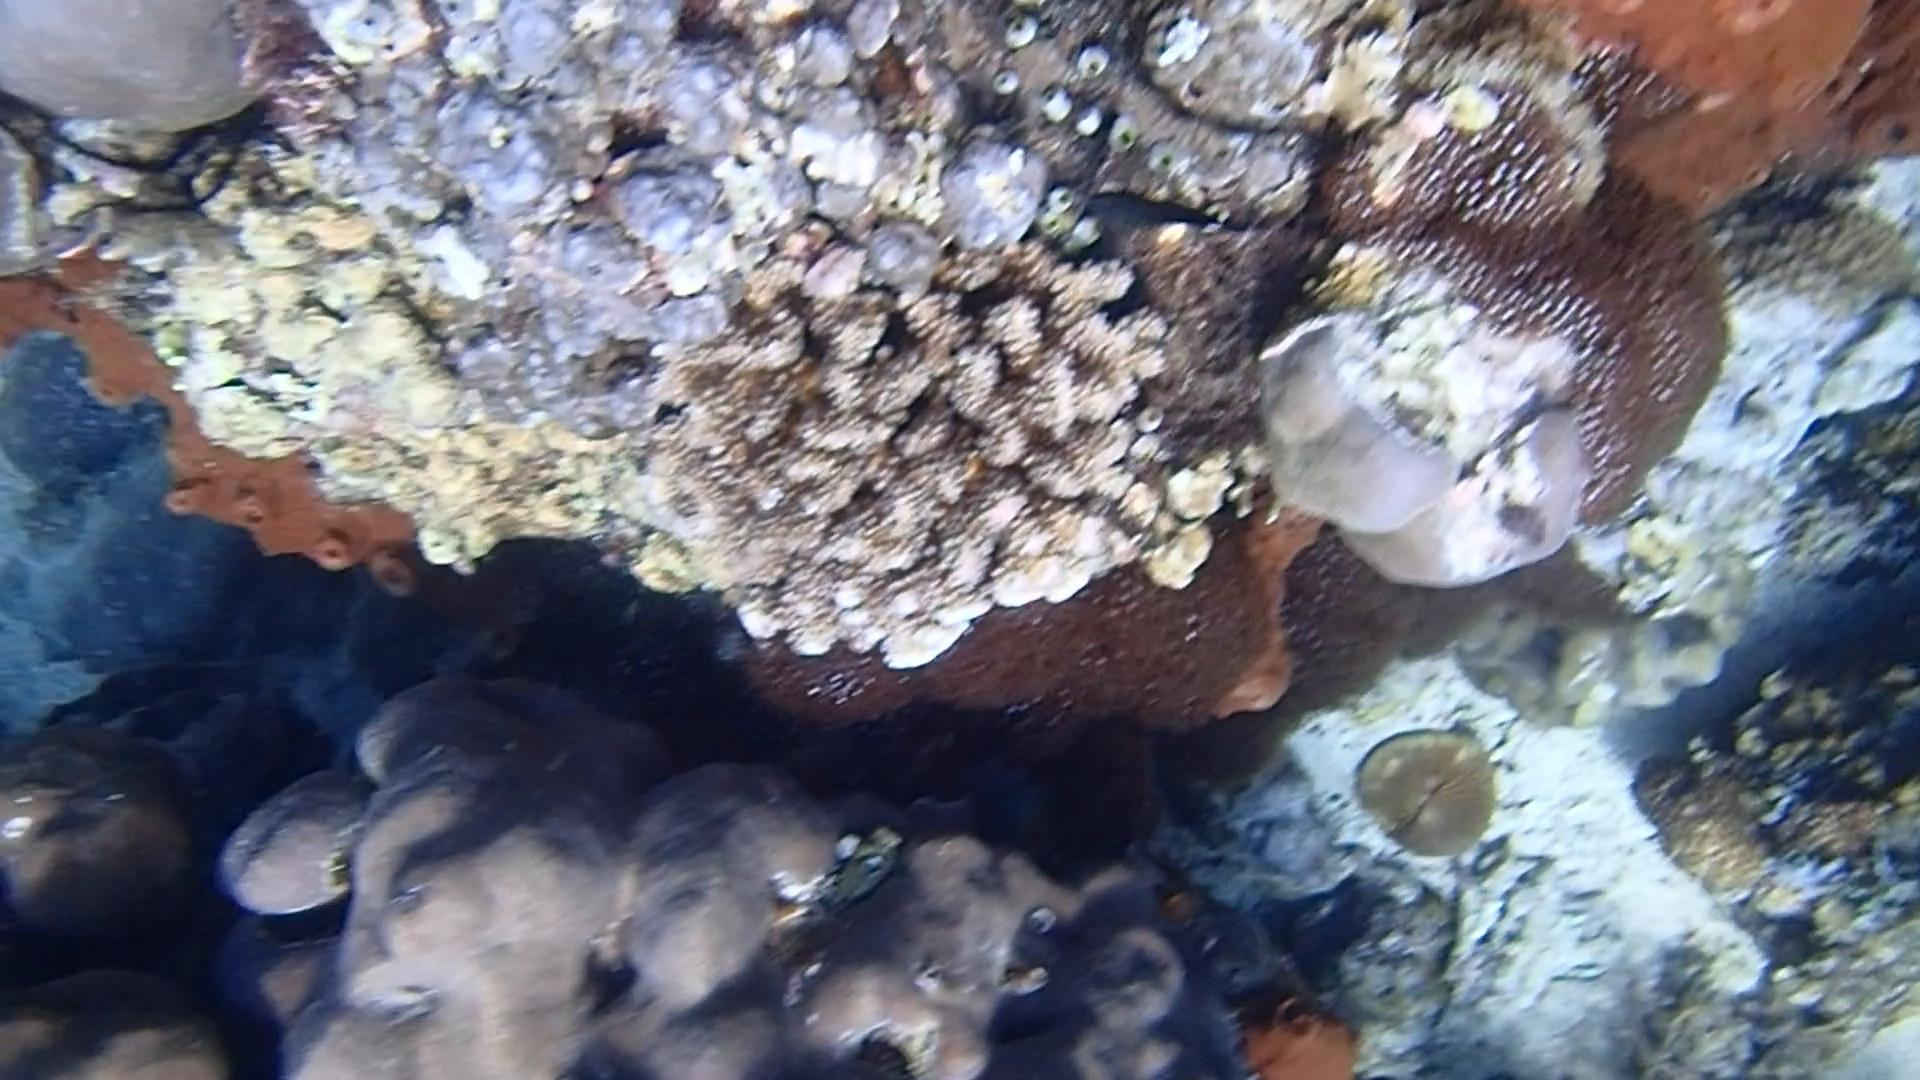Dark Fish: (1071, 165, 1233, 262)
